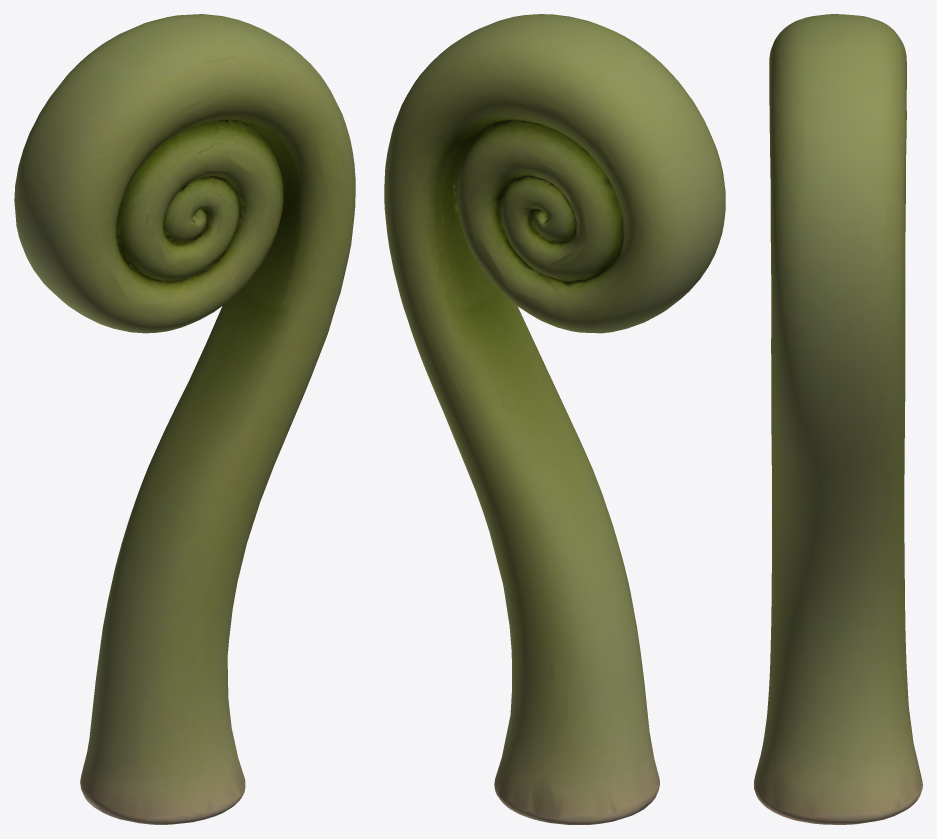
File: plant.glb
3 renders of one model, left to right at view 1: azimuth 30°, elevation 25°; view 2: azimuth 150°, elevation 25°; view 3: azimuth 270°, elevation 25°, orthographic.
Parts seen in each view (by area): view 1: Mesh_0; view 2: Mesh_0; view 3: Mesh_0.
Part boxes in pixels (box(x1,y1,x2,y2)): Mesh_0: box(14, 14, 355, 824); Mesh_0: box(384, 14, 725, 824); Mesh_0: box(754, 14, 922, 824).
Bounding box in the file's own units: 0.4995 × 1.17 × 0.2315.
1 material, 1 textured.
